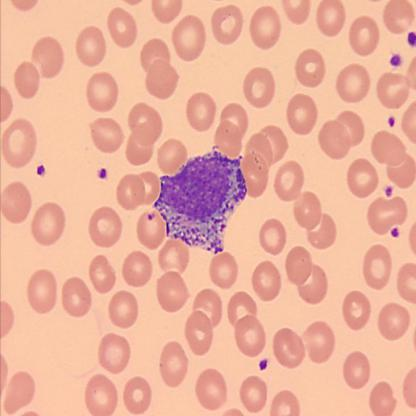Myelocyte: (154, 146, 249, 256)
